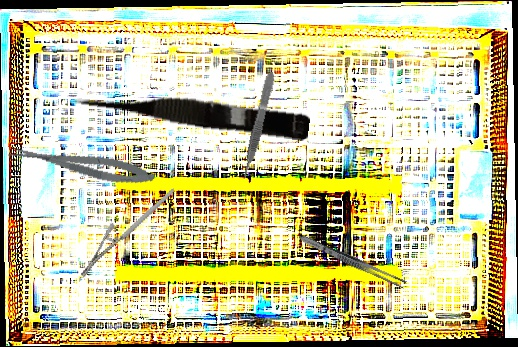Dressing Forceps: (297, 232, 408, 290)
Micro Scissor: (71, 81, 312, 142), (7, 136, 157, 192)
Needle Holder: (63, 188, 192, 279)
Tissue Forceps: (238, 70, 278, 181)
